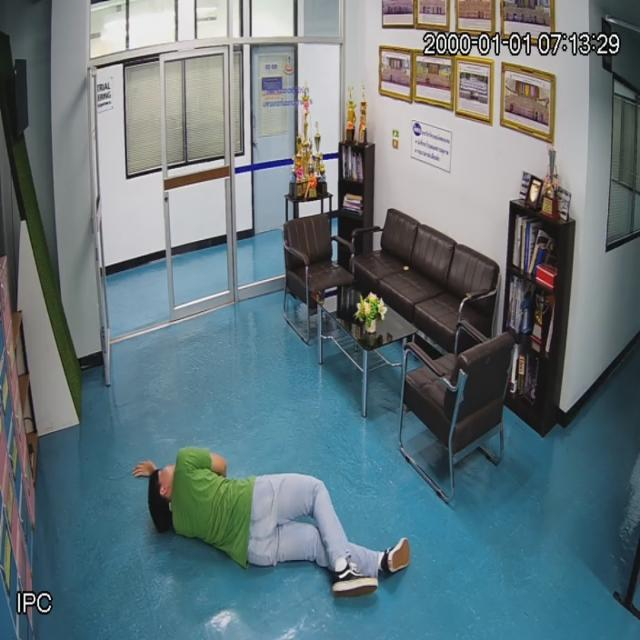fall: (129, 444, 415, 608)
